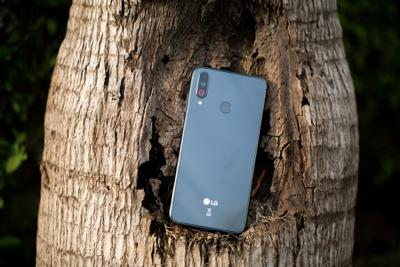cell-phone: (165, 59, 270, 238)
